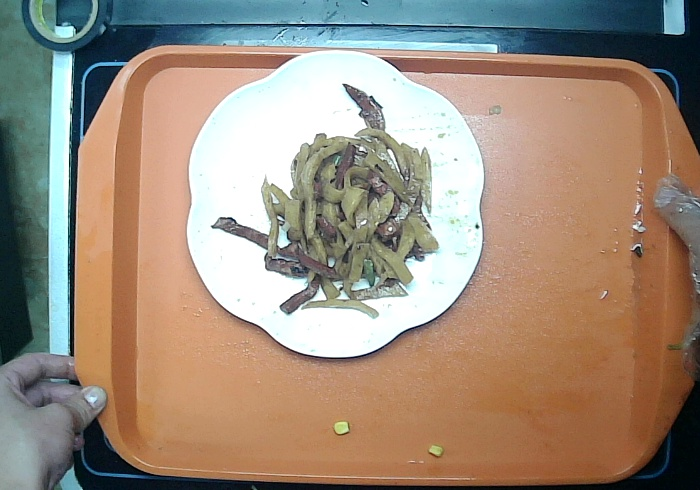HZYJPL-Bai_Se_Hua_Duo_Wan: (184, 51, 484, 362)
